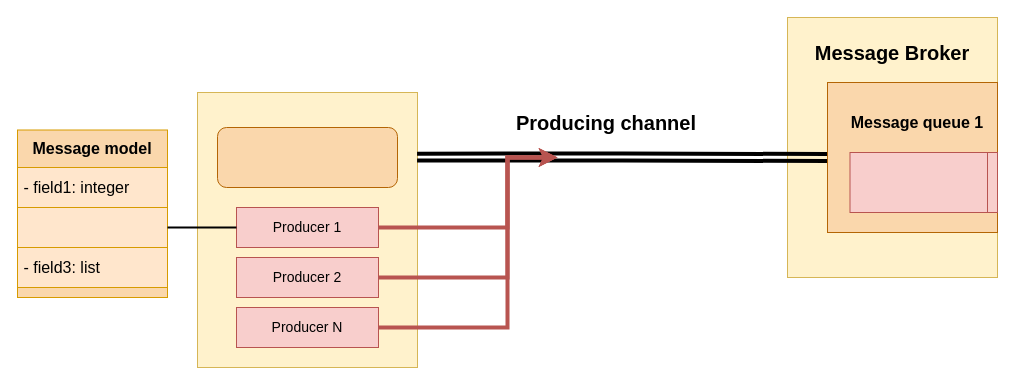
The diagram is 1015 pixels wide and 385 high, and some of its shapes have lost their labels. The box of each missing label's shape, as (x1, y1, x2, y2) in pixels:
- field2: string: (16, 206, 168, 248)
message N: (849, 152, 988, 212)
Service 1: (216, 126, 398, 188)
